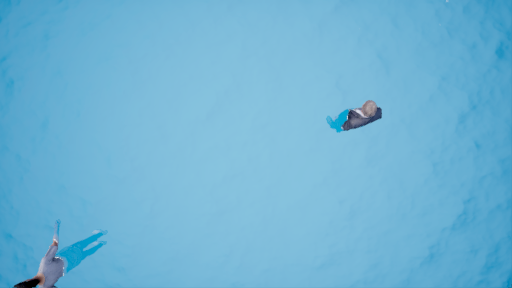person: (7, 213, 120, 288), (320, 96, 391, 136)
